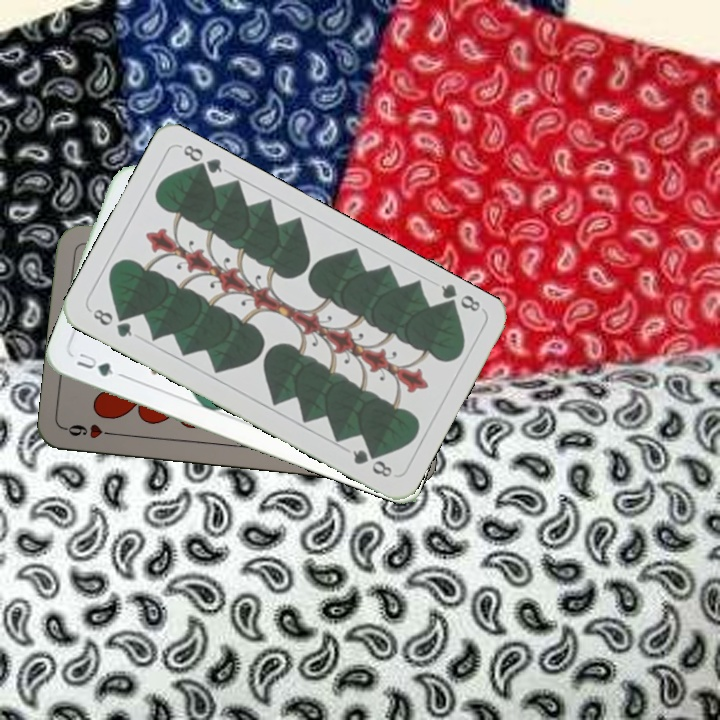G8: (89, 304, 135, 340), (436, 280, 483, 315)
GU: (72, 349, 116, 379)
H9: (62, 420, 121, 441)
